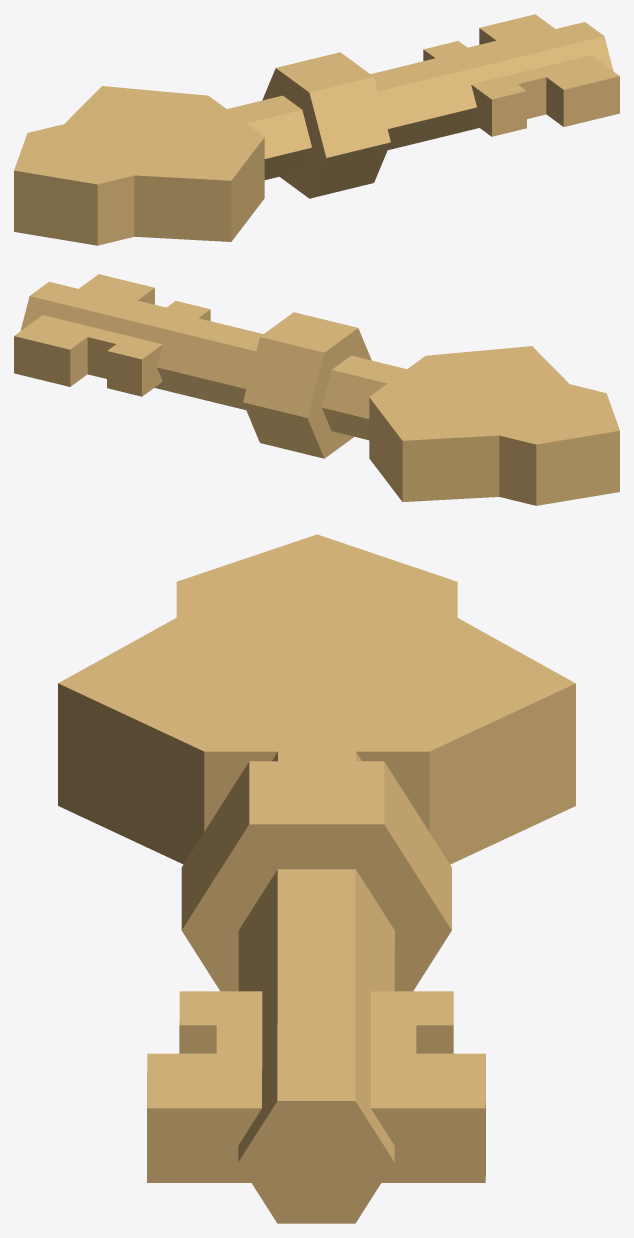
File: GoldMetalMechSmallGoldKey1.fbx
3 renders of one model, top to bottom at view 1: azimuth 30°, elevation 25°; view 2: azimuth 150°, elevation 25°; view 3: azimuth 270°, elevation 25°, orthographic. The views are drawn at different scales.
Parts seen in each view (by area): view 1: KeyHead, KeyShaft, Key, BarrelGuard, KeyShape; view 2: KeyHead, KeyShaft, Key, BarrelGuard, KeyShape; view 3: KeyHead, KeyShaft, KeyShape, BarrelGuard, Key.
Boxes of the visible parts, x1,y1,x2,y2 form: KeyHead: (64, 86, 264, 241); KeyShaft: (227, 22, 613, 179); Key: (14, 124, 134, 245); BarrelGuard: (262, 52, 390, 198); KeyShape: (423, 14, 619, 136); KeyHead: (369, 346, 569, 501); KeyShaft: (20, 281, 406, 440); Key: (499, 384, 619, 505); BarrelGuard: (243, 312, 371, 458); KeyShape: (14, 274, 210, 396); KeyHead: (58, 617, 575, 864); KeyShaft: (238, 751, 394, 1223); KeyShape: (147, 991, 485, 1182); BarrelGuard: (181, 761, 451, 991); Key: (176, 534, 457, 617).
Size of the model in its own units: 157 by 27.37 by 60.53.
